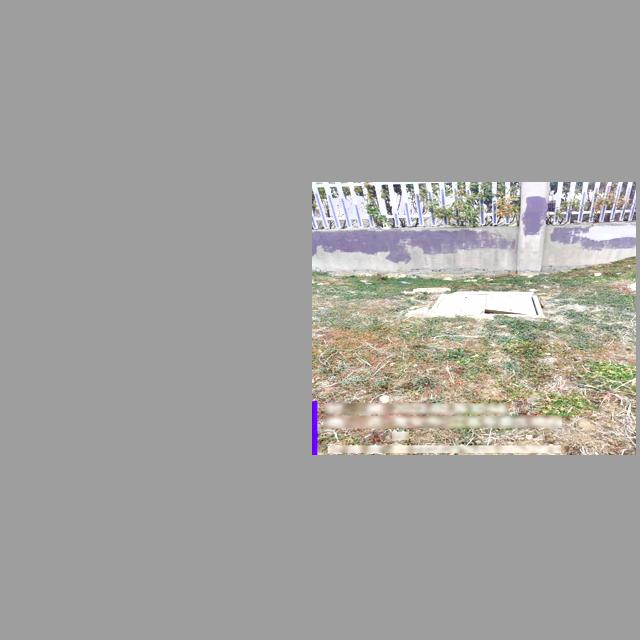uncovered: (425, 284, 544, 318)
